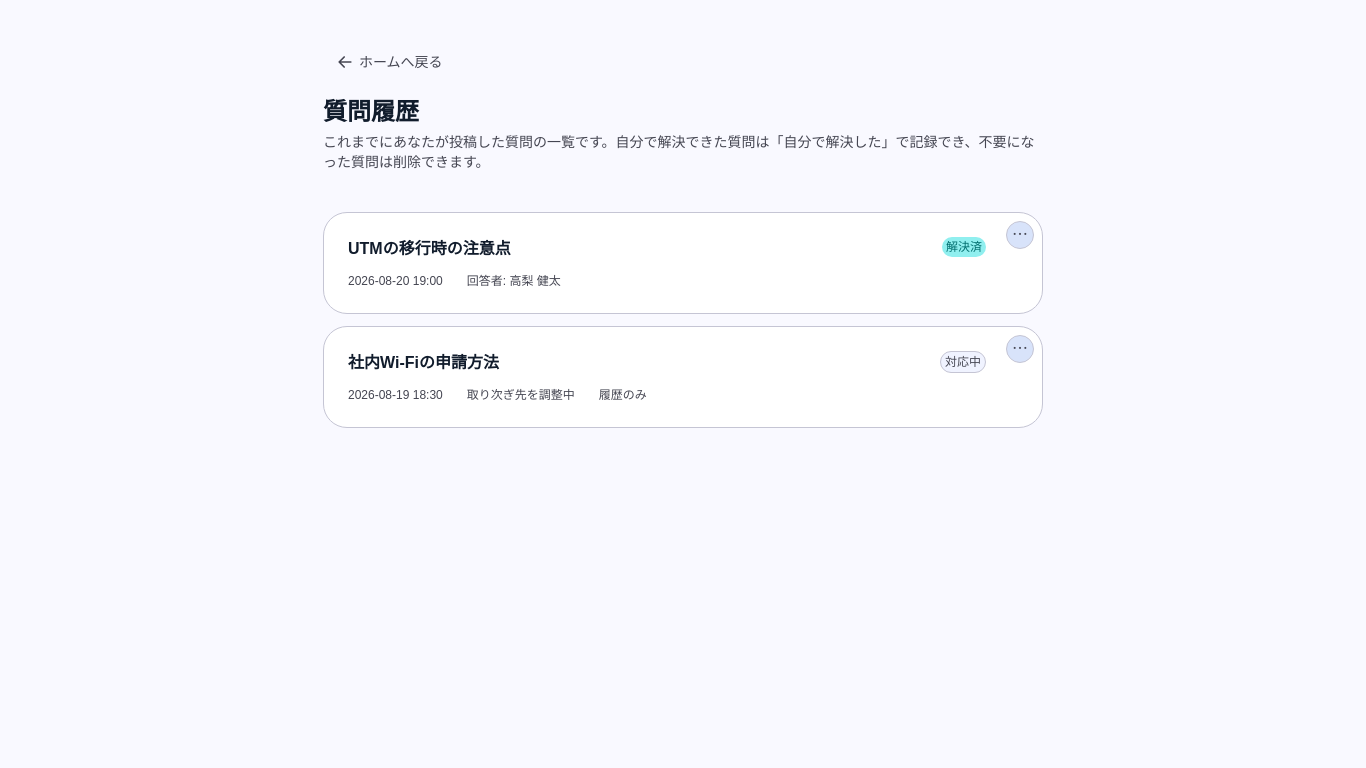
Test: HistoryScreen › deletes a question via the options menu after confirmation and removes it from the list
expect the heading "社内Wi-Fiの申請方法" is shown: met, box x1=348 y1=351 x2=499 y2=375
Step 1. Click the button named "「社内Wi-Fiの申請方法」の操作" → (1020, 349), box x1=1006 y1=335 x2=1034 y2=363
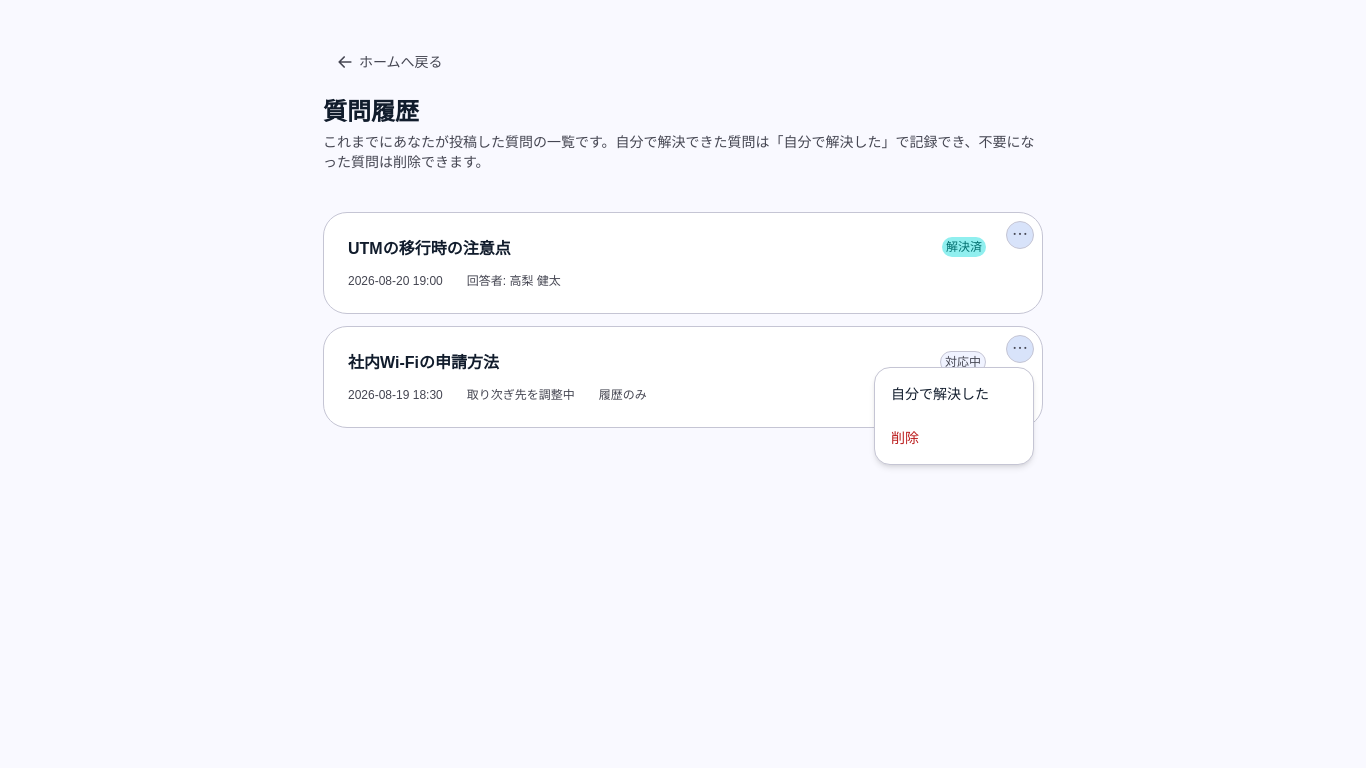
Step 2. Click the menu item "削除" → (954, 438), box x1=879 y1=416 x2=1029 y2=460
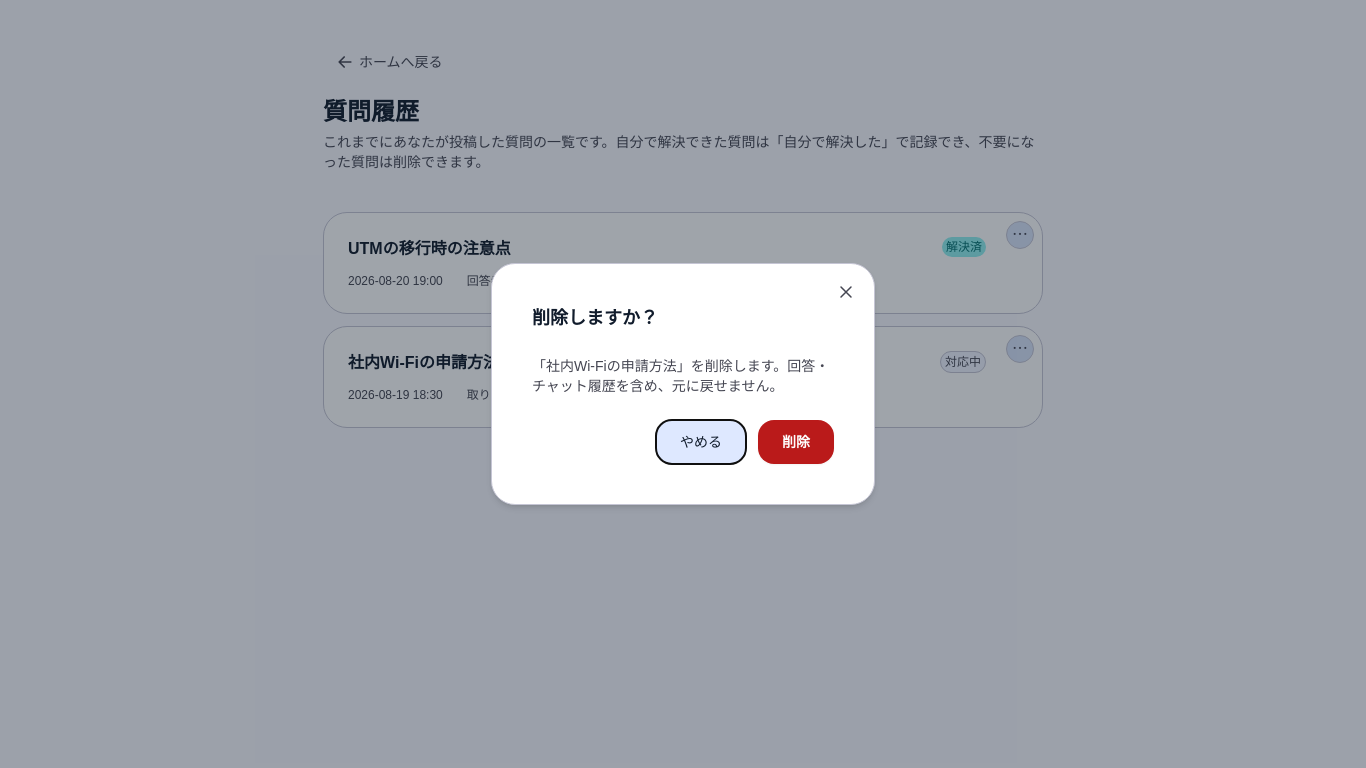
Step 3. Click the button "削除" → (796, 442), box x1=758 y1=420 x2=834 y2=464
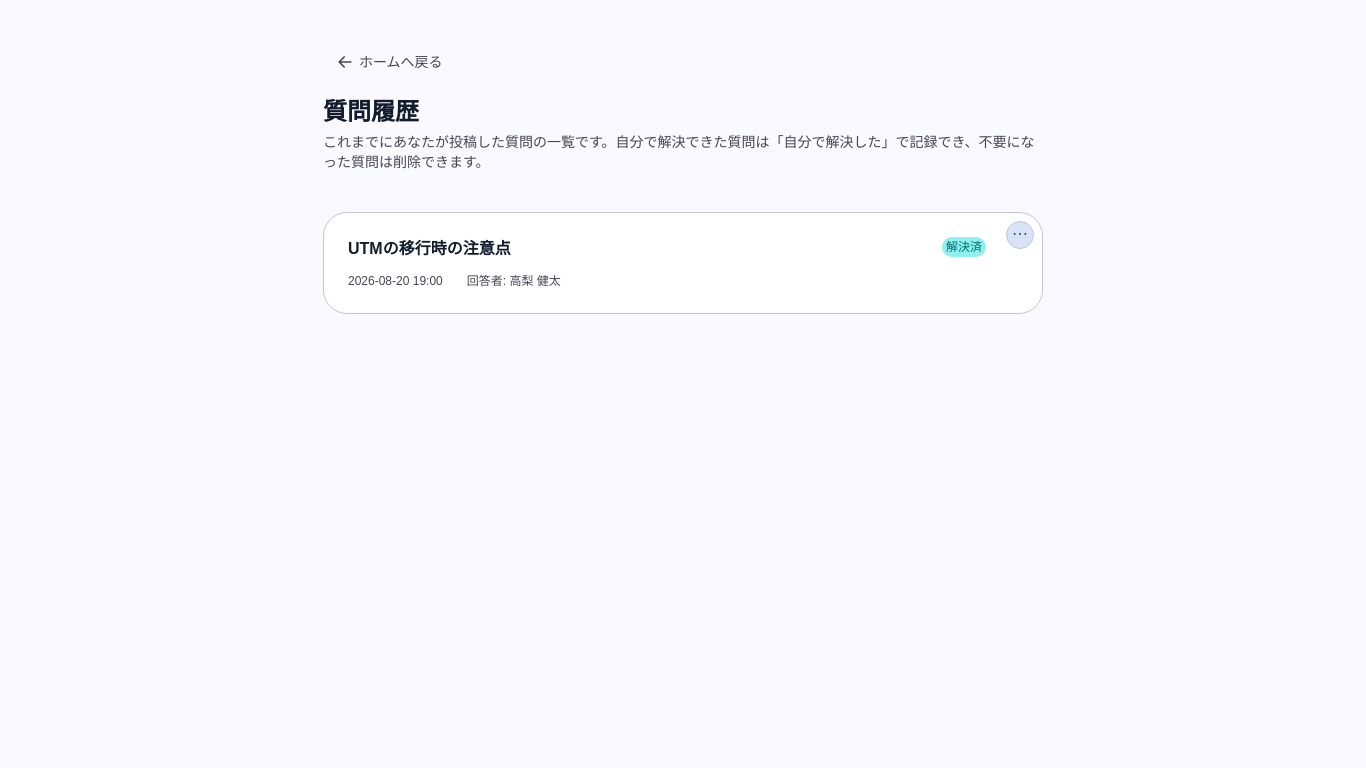
expect the heading "UTMの移行時の注意点" is shown: met, box x1=348 y1=237 x2=511 y2=261
expect the heading "社内Wi-Fiの申請方法" is gone: met
